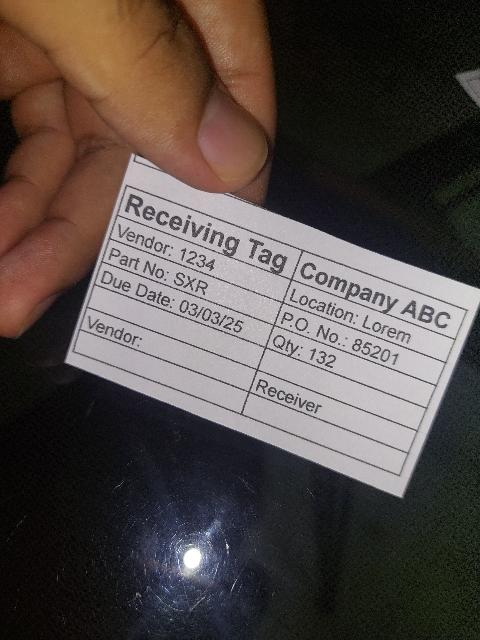PO no: (273, 303, 446, 384)
part no: (101, 239, 284, 325)
qty: (265, 325, 438, 409)
tags: (65, 154, 480, 497)
